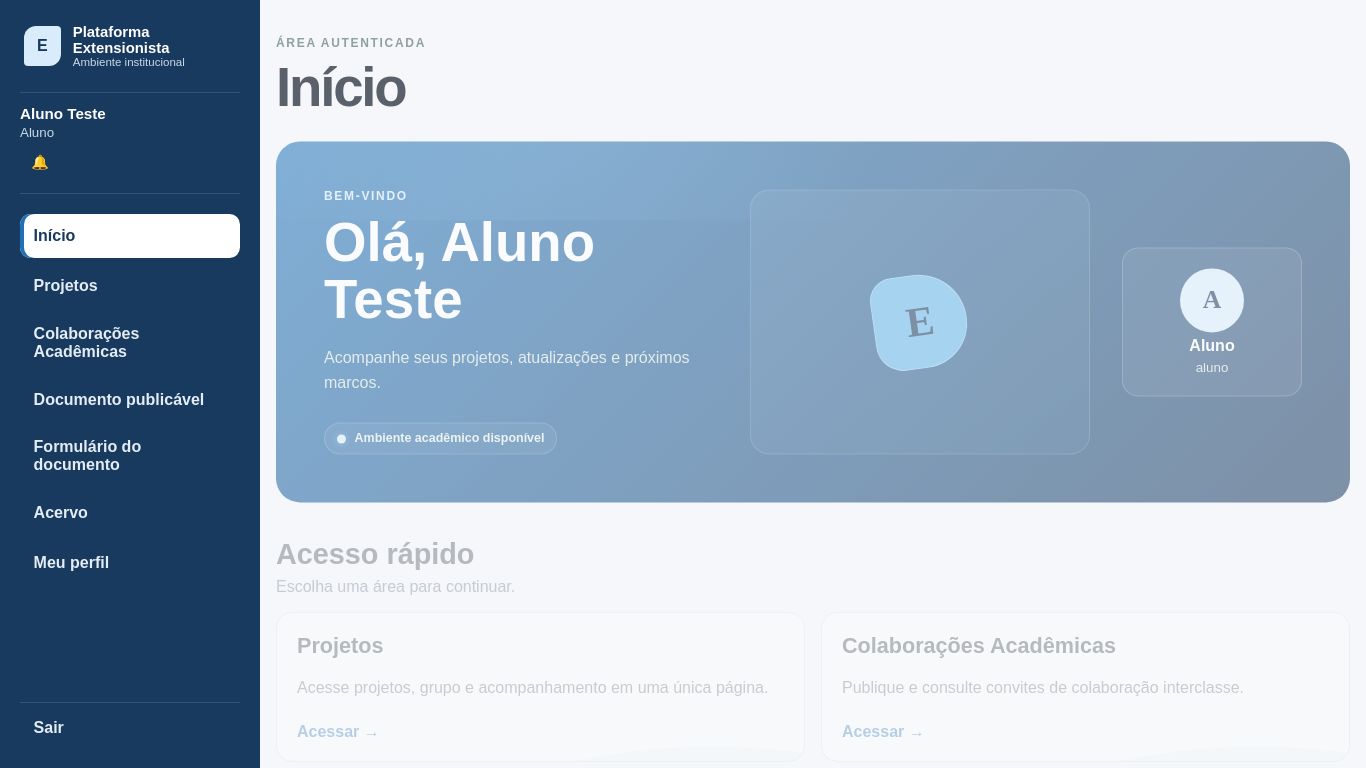
App › exibe perfil e permite logout
Expected: the heading "Início" is shown, [276,61,426,115]
Expected: the heading "Olá, Aluno Teste" is shown, [324,212,595,331]
Click the button "Meu perfil".
click(130, 563)  # box [20,541,240,585]
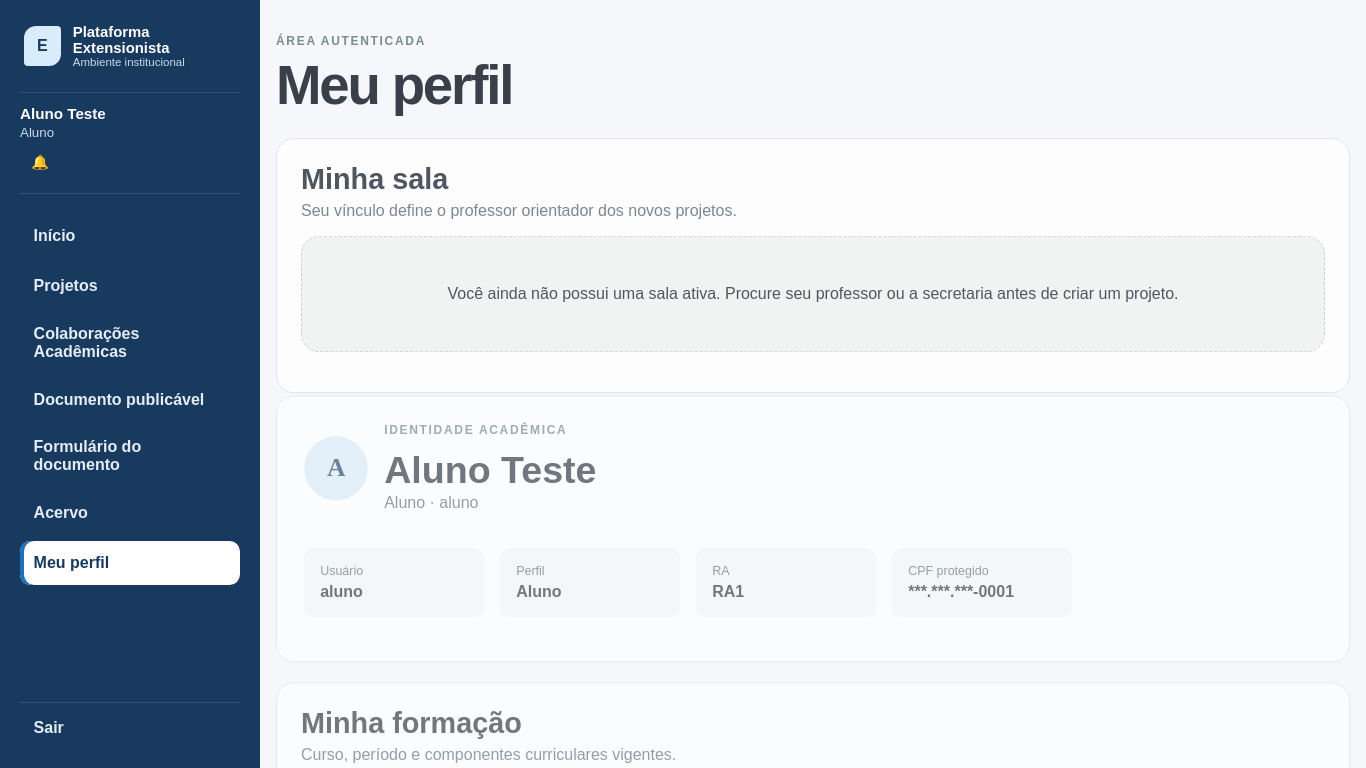
Result: the text "RA1" is shown at [712,584,744,601]
Click the button "Sair".
click(130, 725)  # box [20,702,240,748]
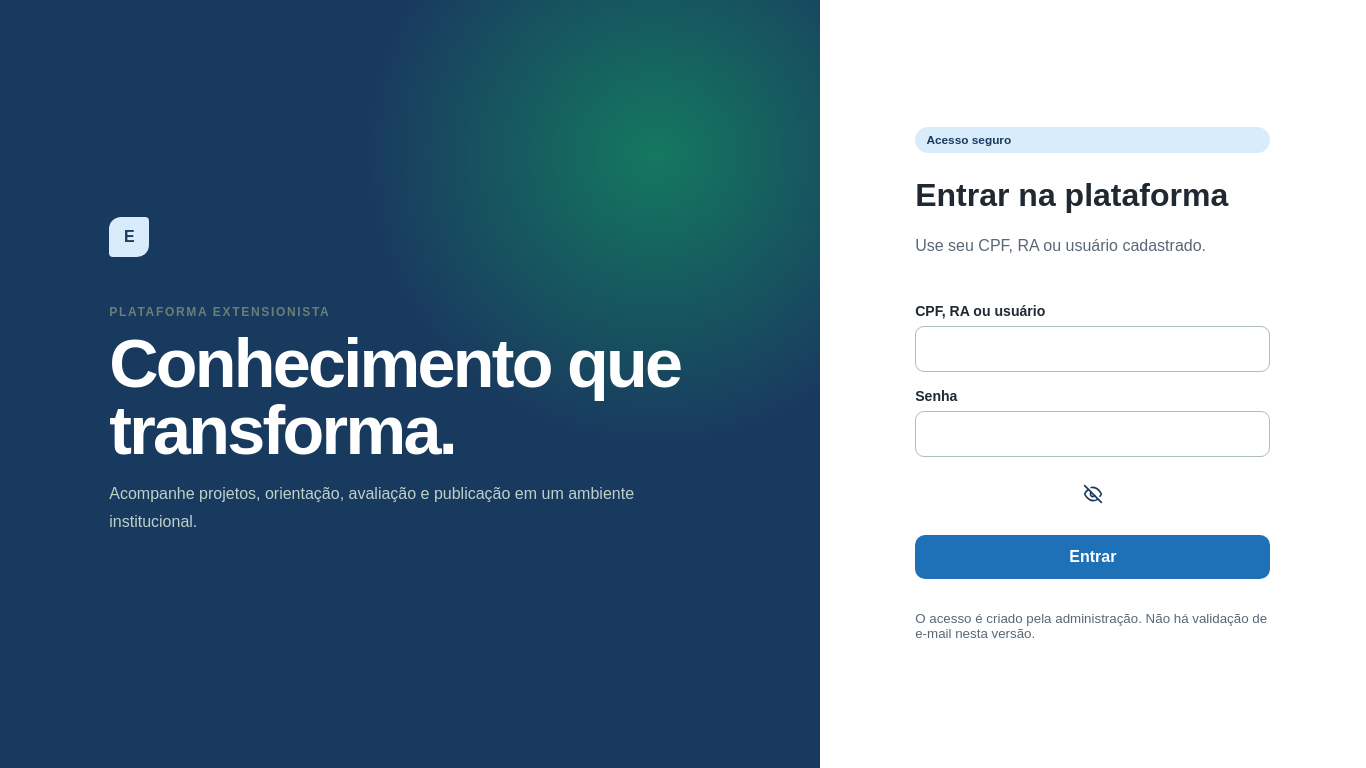
Result: the heading "Entrar na plataforma" is shown at [915,177,1270,214]
